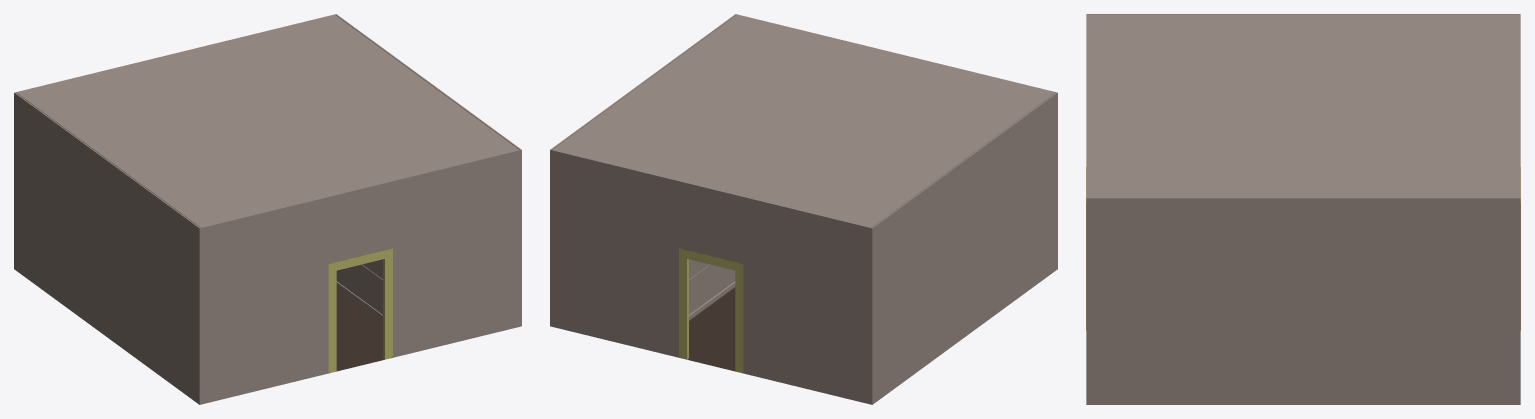
Rendered from Room40_StairsFromBasement.fbx.
3 renders of one model, left to right at view 1: azimuth 30°, elevation 25°; view 2: azimuth 150°, elevation 25°; view 3: azimuth 270°, elevation 25°, orthographic. The views are drawn at different scales.
Parts seen in each view (by area): view 1: Roof, WallSlicedPosZ, WallPosX, WallSlicedPosZ10, WallPosX25, Floor, DoorFramePosZ, WallNegX1, WallNegX; view 2: Roof, WallSlicedNegZ, WallPosX, WallSlicedNegZ17, WallPosX25, Floor, DoorFrameNegZ, WallNegX1, WallNegX; view 3: Roof, WallNegX, WallNegX25, WallPosX.
Boxes of the visible parts, bbox=[...] form: Roof: bbox=[17, 15, 518, 227]; WallSlicedPosZ: bbox=[199, 149, 521, 364]; WallPosX: bbox=[14, 92, 200, 364]; WallSlicedPosZ10: bbox=[200, 286, 521, 404]; WallPosX25: bbox=[14, 229, 201, 404]; Floor: bbox=[329, 287, 392, 373]; DoorFramePosZ: bbox=[328, 248, 392, 372]; WallNegX1: bbox=[239, 37, 425, 349]; WallNegX: bbox=[336, 14, 521, 285]; Roof: bbox=[553, 15, 1054, 227]; WallSlicedNegZ: bbox=[550, 149, 871, 364]; WallPosX: bbox=[871, 92, 1057, 364]; WallSlicedNegZ17: bbox=[550, 286, 870, 404]; WallPosX25: bbox=[870, 229, 1057, 404]; Floor: bbox=[679, 287, 742, 373]; DoorFrameNegZ: bbox=[679, 248, 743, 372]; WallNegX1: bbox=[646, 38, 832, 349]; WallNegX: bbox=[550, 14, 735, 285]; Roof: bbox=[1088, 15, 1518, 197]; WallNegX: bbox=[1086, 197, 1520, 357]; WallNegX25: bbox=[1086, 357, 1520, 404]; WallPosX: bbox=[1086, 14, 1520, 14].
Bounding box in the file's own units: 802 × 420 × 800.
